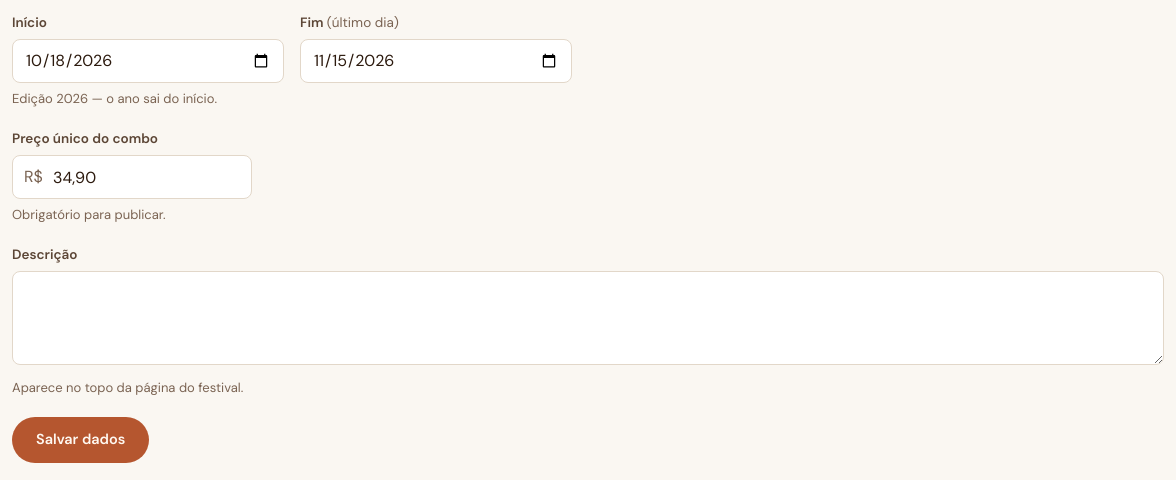
EdicaoForm — edição › publicada, mudar o ano do início avisa que a página muda de endereço
Type "2027-10-18" into the date field labelled "Início" at (148, 61), box x1=12 y1=39 x2=284 y2=83
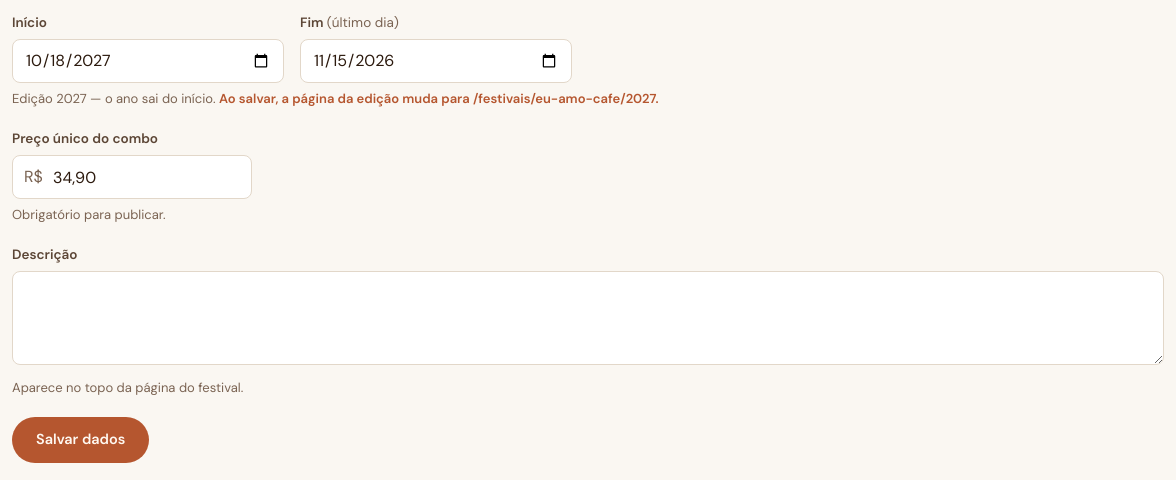
Expected: the text "Ao salvar, a página da edição muda para /festivais/eu-amo-cafe/2027." is shown, x1=219 y1=90 x2=659 y2=107
